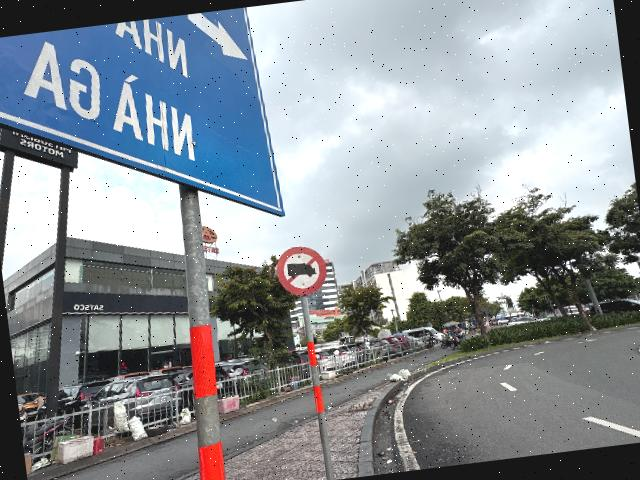cam-xe-tai: (274, 243, 328, 299)
